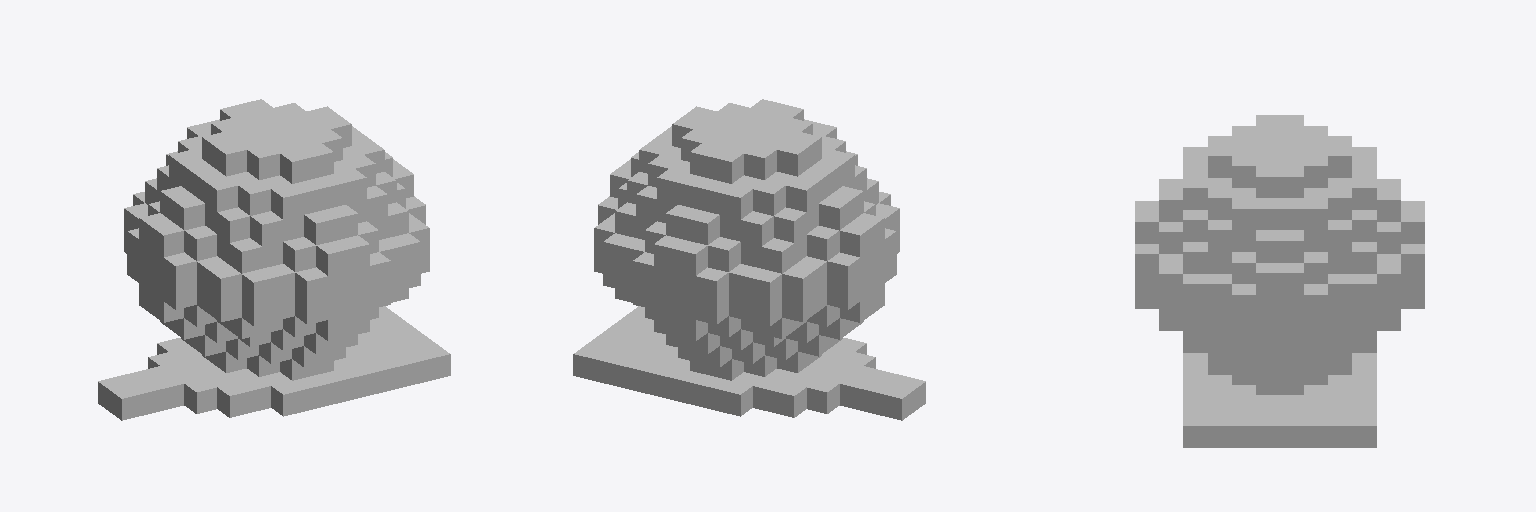
File: hardcook_cutting_board_with_cabbage.obj
The picture shows the model from 3 angles: view 1: azimuth 30°, elevation 25°; view 2: azimuth 150°, elevation 25°; view 3: azimuth 270°, elevation 25°; orthographic projection.
Parts seen in each view (by area): view 1: node_0_0_0.003, node_0_0_0; view 2: node_0_0_0.003, node_0_0_0; view 3: node_0_0_0.003, node_0_0_0.
Part boxes in pixels (x1,y1,x2,y2): node_0_0_0.003: (124,99,429,380); node_0_0_0: (98,306,450,420); node_0_0_0.003: (594,99,899,380); node_0_0_0: (573,306,925,420); node_0_0_0.003: (1135,115,1424,394); node_0_0_0: (1183,353,1376,447).
Bounding box in the file's own units: 0.875 × 0.6875 × 0.75.